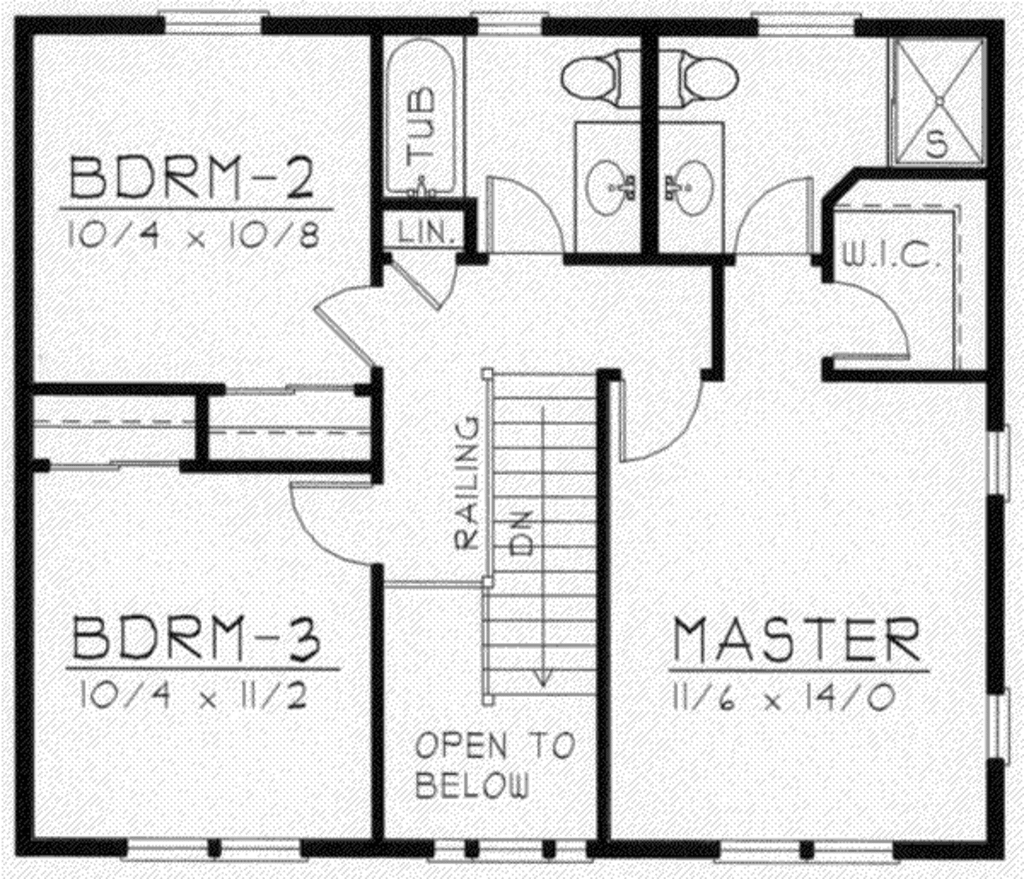door: (620, 369, 705, 463), (283, 481, 377, 566), (823, 280, 913, 368), (483, 168, 563, 258), (732, 177, 819, 259), (313, 280, 381, 375), (387, 252, 458, 317)
large_sink: (659, 43, 749, 115), (557, 43, 642, 116)
small_sink: (571, 120, 645, 256), (656, 118, 727, 259)
stairs: (479, 369, 598, 704)
tub: (382, 28, 474, 204)
window: (429, 833, 590, 868), (119, 836, 304, 866), (711, 837, 903, 865), (150, 5, 276, 43), (745, 7, 864, 41), (467, 6, 550, 37), (981, 690, 1010, 771), (985, 418, 1013, 499)
